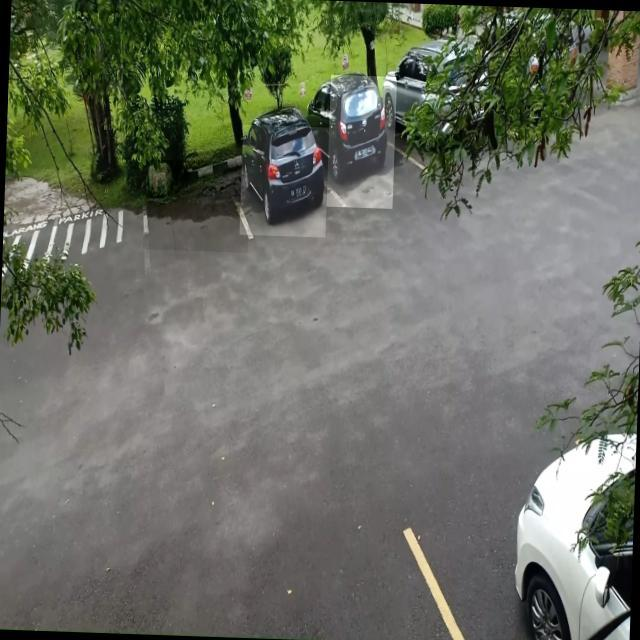empty: (142, 158, 250, 252)
occupied: (239, 124, 329, 237), (326, 74, 396, 209)
